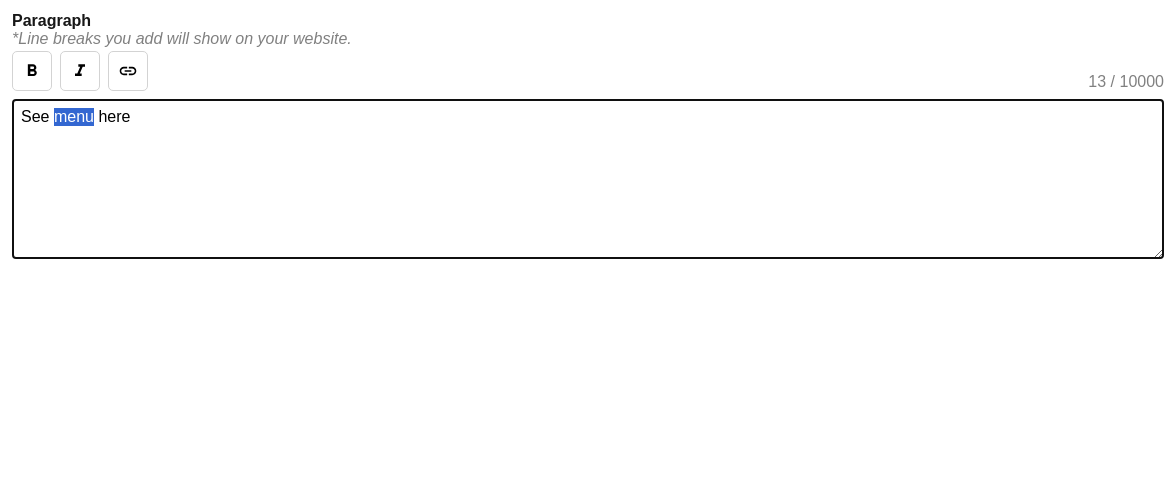
ParagraphField formatting › shows Link as pressed while its panel is open, and closes the panel on a second click
Click the button named "Link text in paragraph 1" at (128,71), box 108,51 -> 148,91
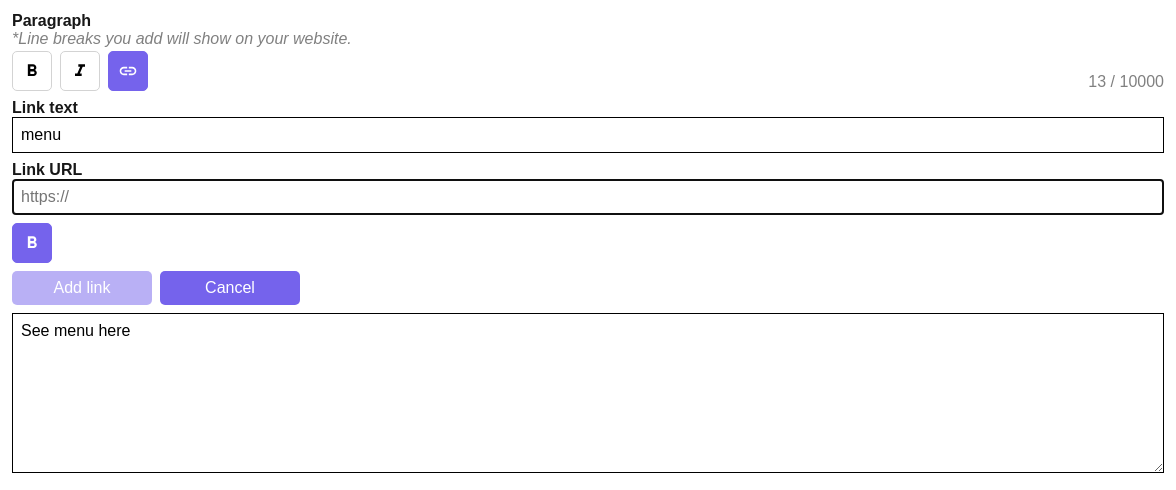
Now the button named "Link text in paragraph 1" is pressed
Click the button named "Link text in paragraph 1" at (128,71), box 108,51 -> 148,91
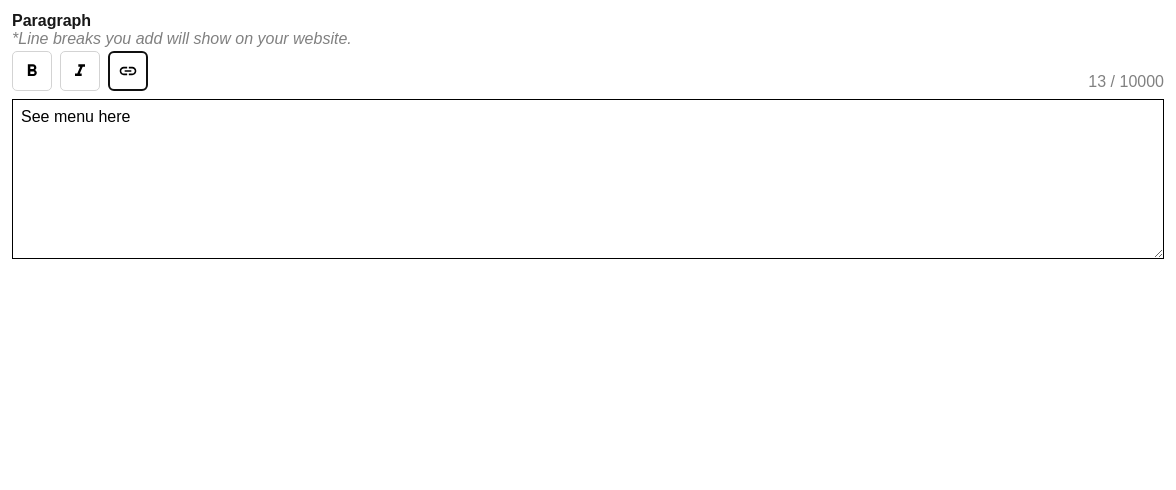
Expected: the text box labelled "Paragraph" holds "See menu here", 12,99 -> 1164,259
Now the label labelled "Link URL" is gone
